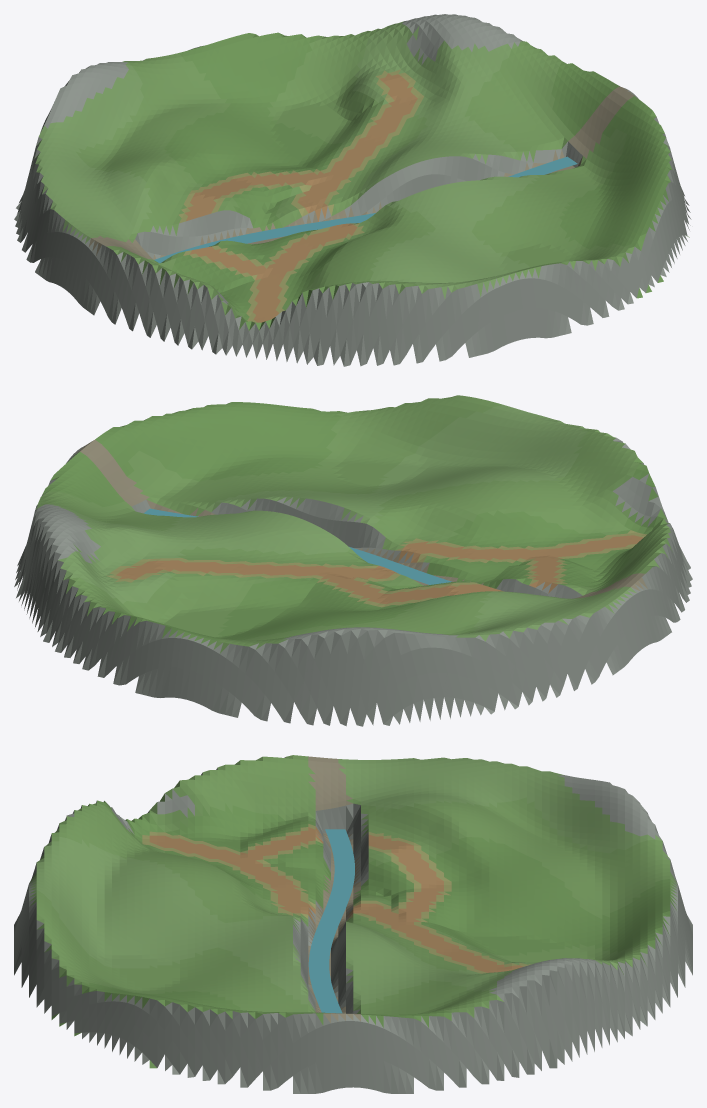
File: runewood_terrain.glb
The picture shows the model from 3 angles, top to bottom: view 1: azimuth 30°, elevation 25°; view 2: azimuth 150°, elevation 25°; view 3: azimuth 270°, elevation 25°; orthographic projection.
Parts seen in each view (by area): view 1: Runewood sculpted valley, Moonbrook stream; view 2: Runewood sculpted valley, Moonbrook stream; view 3: Runewood sculpted valley, Moonbrook stream.
Part boxes in pixels (x1,y1,x2,y2): Runewood sculpted valley: (14, 14, 691, 366); Moonbrook stream: (154, 156, 577, 263); Runewood sculpted valley: (14, 395, 692, 726); Moonbrook stream: (143, 508, 451, 584); Runewood sculpted valley: (14, 755, 692, 1093); Moonbrook stream: (308, 829, 354, 1013).
Bounding box in the file's own units: 126 × 18.09 × 126.
